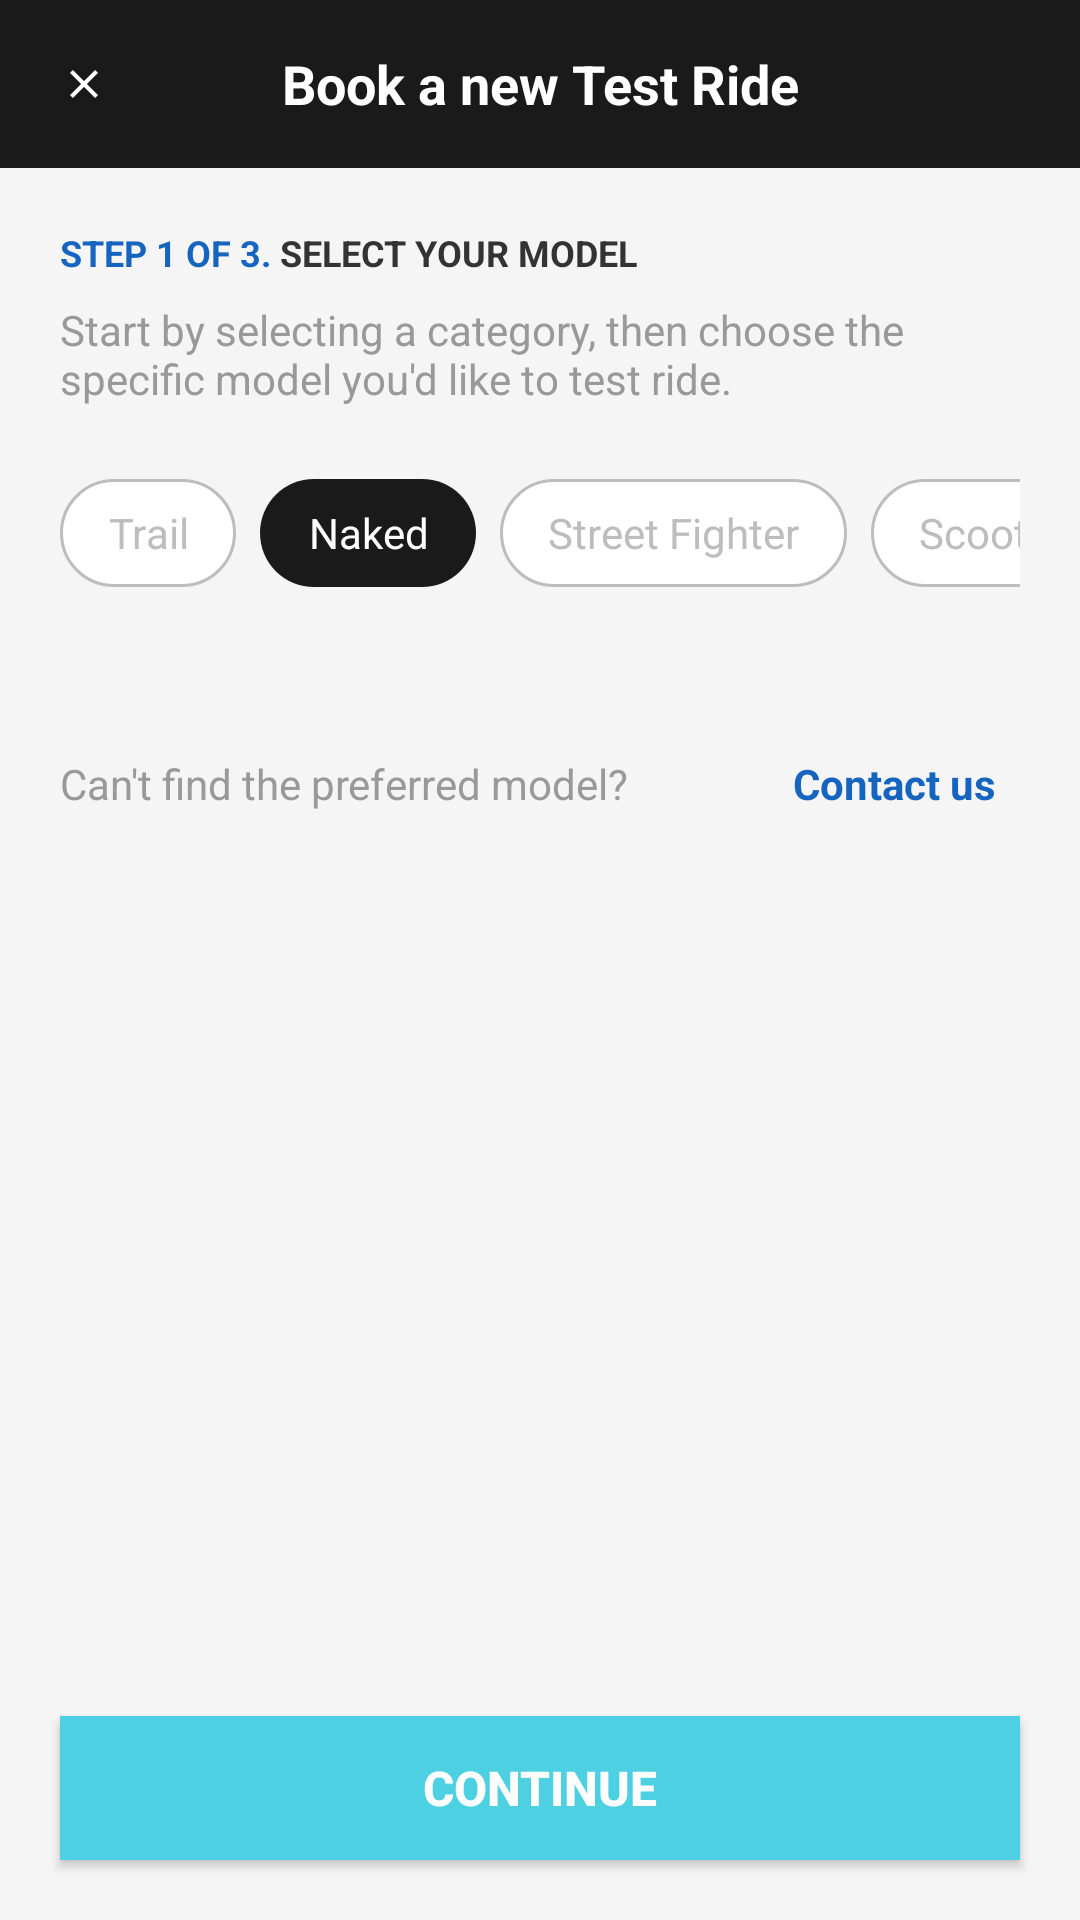

Where icons sit on this 1080*1920 app screen, as (x1, y1, x2, y2):
close: (70, 70, 98, 98)
